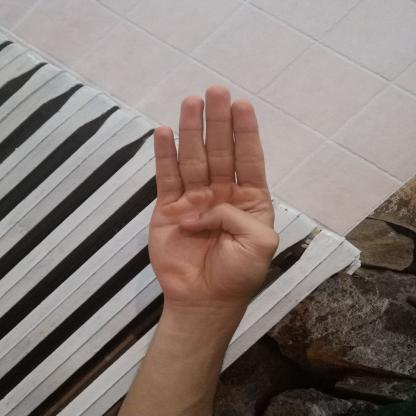KAAF: (121, 73, 308, 319)
